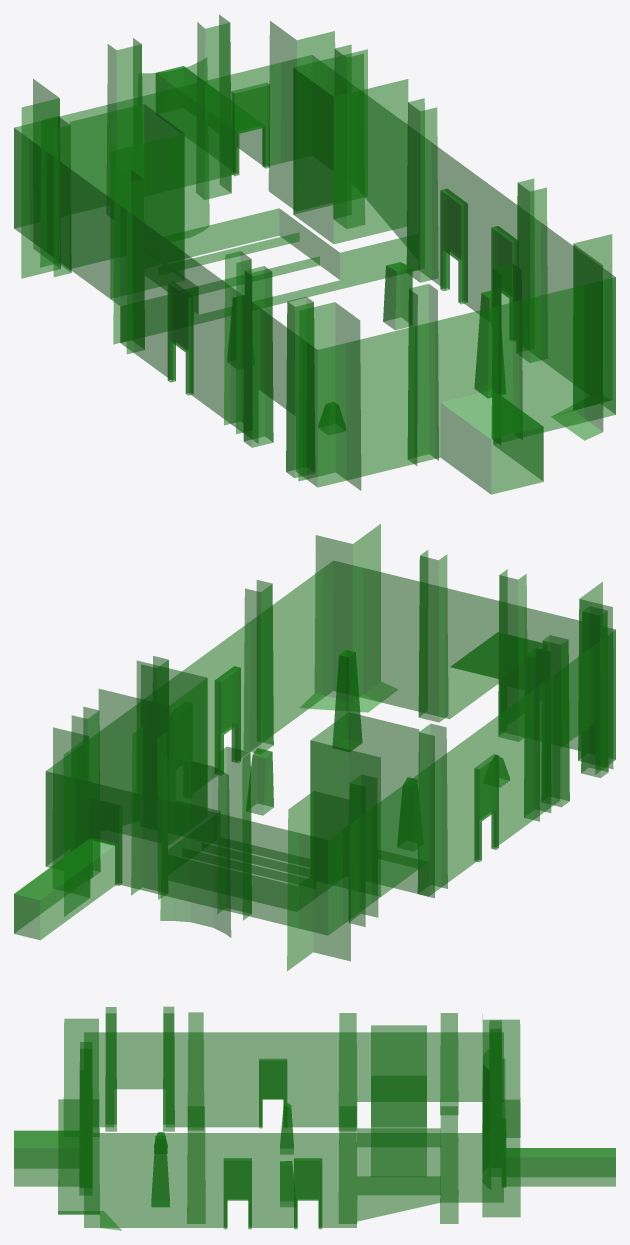
File: hall_wall01.obj
3 renders of one model, top to bottom at view 1: azimuth 30°, elevation 25°; view 2: azimuth 150°, elevation 25°; view 3: azimuth 270°, elevation 25°, orthographic. The views are drawn at different scales.
Bounding box in the file's own units: 35.94 × 21.9 × 86.
